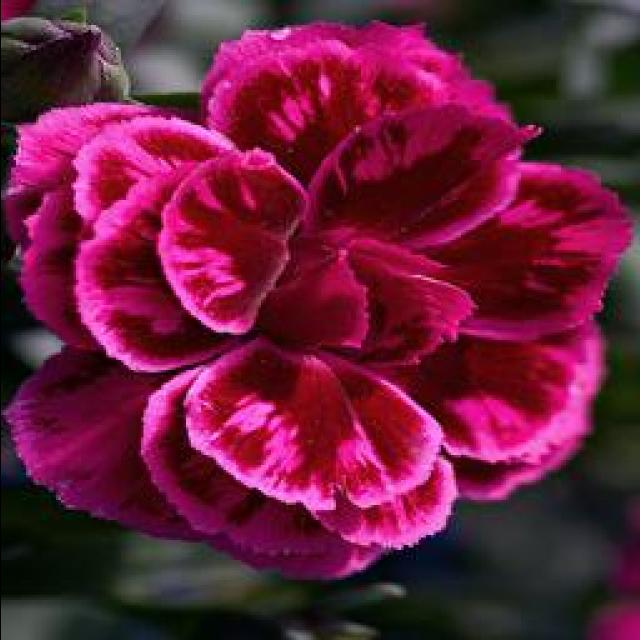carnation: (4, 22, 634, 582)
